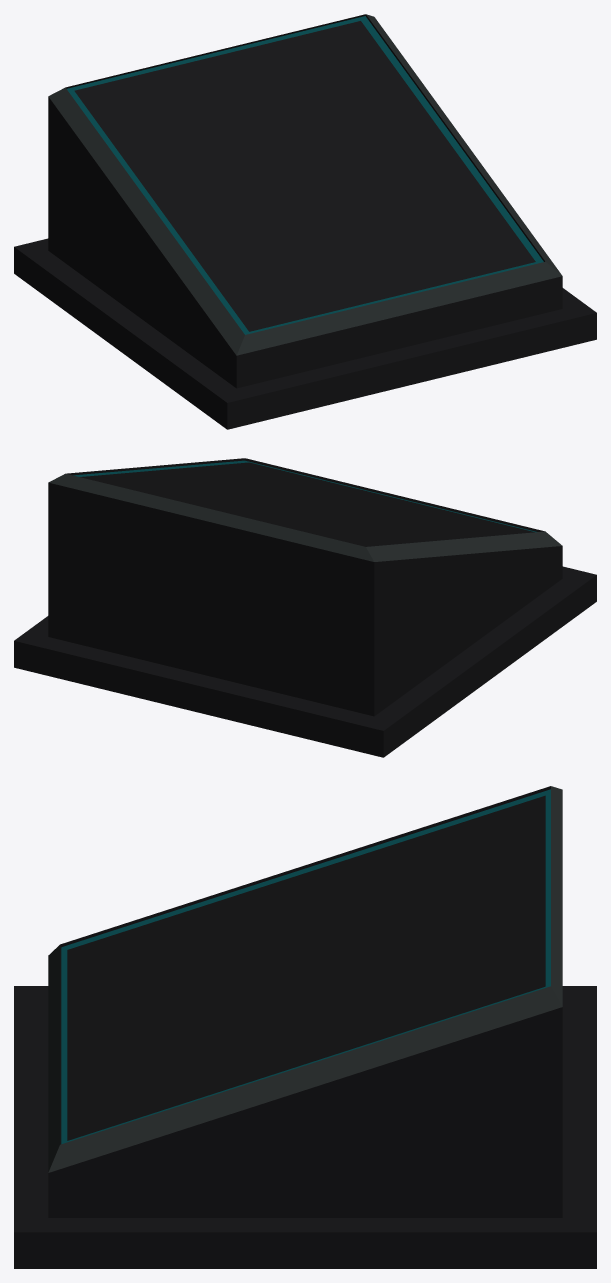
3 renders of one model, top to bottom at view 1: azimuth 30°, elevation 25°; view 2: azimuth 150°, elevation 25°; view 3: azimuth 270°, elevation 25°, orthographic. The views are drawn at different scales.
Visible parts, largest first — view 1: Base; view 2: Base; view 3: Base.
Part boxes in pixels (x1,y1,x2,y2): Base: (14, 14, 596, 429); Base: (14, 458, 596, 757); Base: (14, 786, 596, 1268).
Size of what is drawn, in the model's own units: 0.4315 by 0.212 by 0.4315.
Materials: 2 (2 with a texture image).
